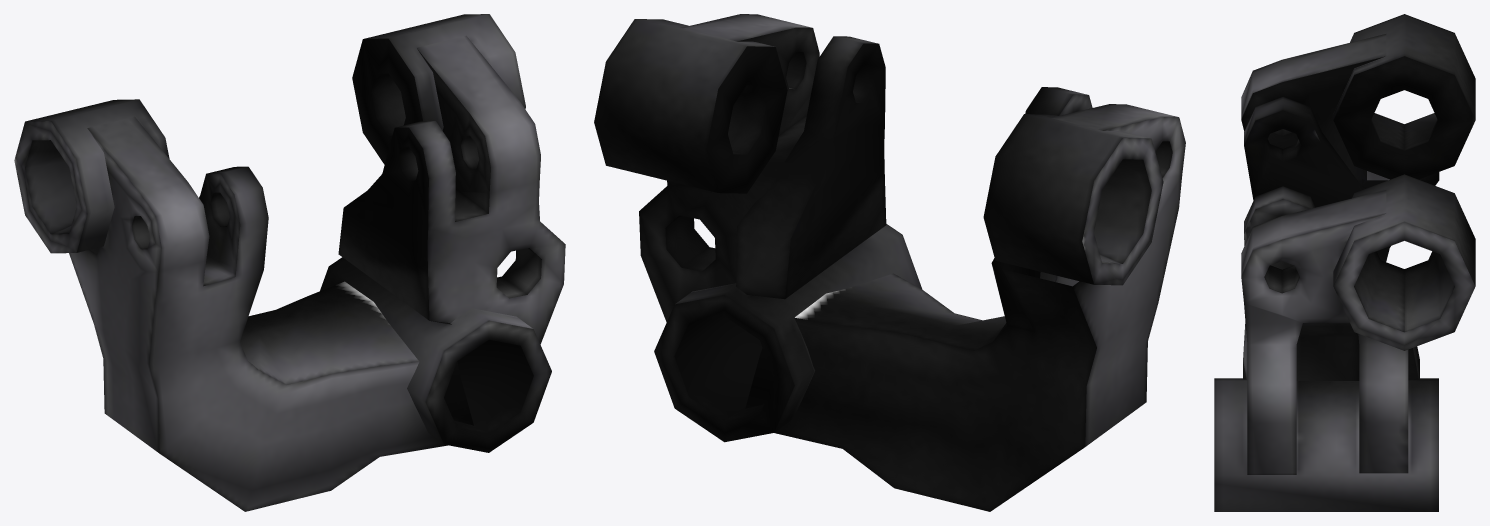
Rendered from r_lglut.dae.
3 views of the same model, side by side, from view 1: azimuth 30°, elevation 25°; view 2: azimuth 150°, elevation 25°; view 3: azimuth 270°, elevation 25° (orthographic). The views are drawn at different scales.
Visible parts, largest first — view 1: r_lglut; view 2: r_lglut; view 3: r_lglut.
Part boxes in pixels (bbox=[...]): r_lglut: bbox=[14, 14, 565, 511]; r_lglut: bbox=[594, 14, 1185, 511]; r_lglut: bbox=[1214, 14, 1475, 511].
Size of the model in its own units: 0.1439 by 0.0762 by 0.1175.
Materials: 1 (1 with a texture image).
